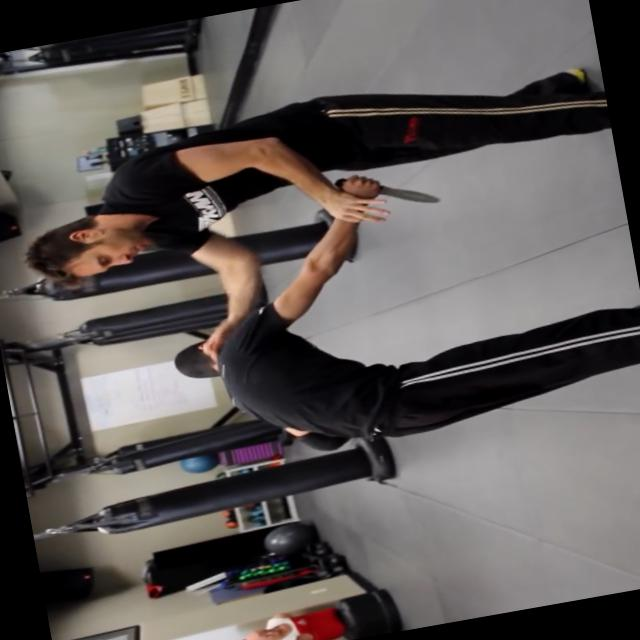knife: (328, 158, 448, 222)
